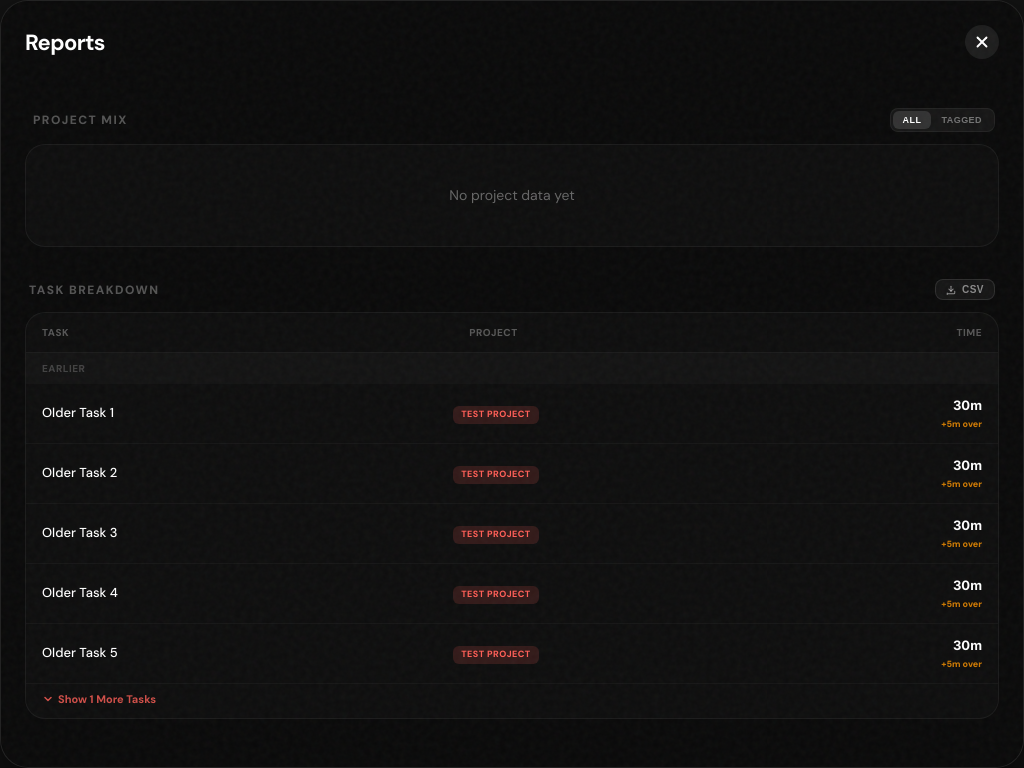
it: ReportsView and Helpers › ReportsView Component › should collapse Earlier tasks by default and expand on show more
(page scrolled)
Check: the text "Earlier" is shown, box [26,352,998,384]
Check: the text "Older Task 1" is shown, box [42,404,114,421]
Step 1. Click the button "Show 1 More Tasks" → x=99, y=697, box [42,688,156,706]
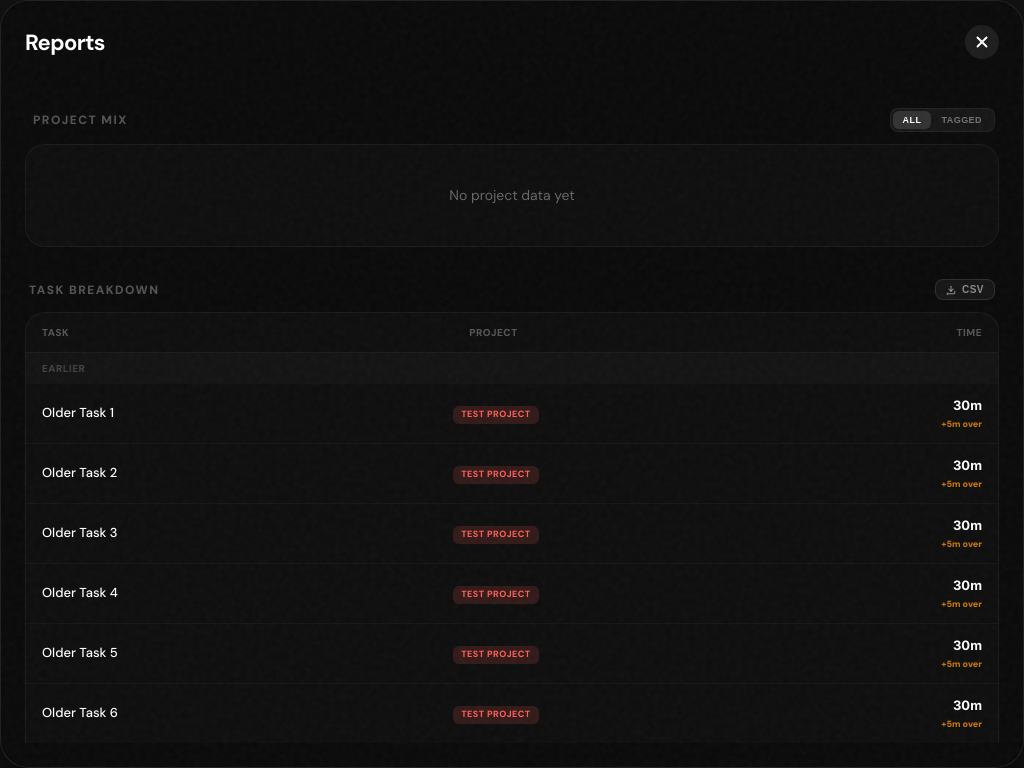
Check: the text "Older Task 6" is shown, box [42,704,118,721]
